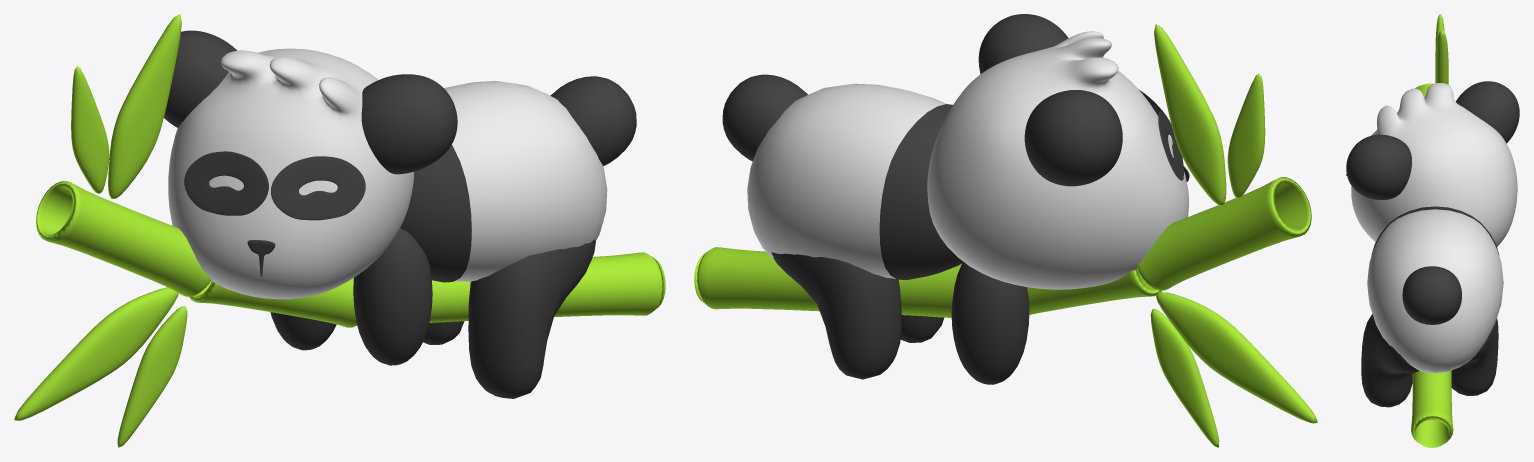
Rendered from panda.glb.
3 views of the same model, side by side, from view 1: azimuth 30°, elevation 25°; view 2: azimuth 150°, elevation 25°; view 3: azimuth 270°, elevation 25° (orthographic). The views are drawn at different scales.
Visible parts, largest first — view 1: Cube_2, Cubo.010_3, Cubo.003_19, Plano.002_16, Cilindro_12, Plano.001_15, Cubo.001_17, Cubo.004_9, Cilindro.002_14, Cubo.008_4, Cubo.007_21, Plano.004_0 (+5 smaller); view 2: Cube_2, Cubo.010_3, Plano.002_16, Cilindro_12, Cubo.006_20, Plano.001_15, Cubo.008_4, Cilindro.002_14, Cubo.005_10, Cubo.002_18, Cubo.007_21, Cubo.004_9 (+3 smaller); view 3: Cubo.010_3, Cube_2, Cubo.004_9, Cubo.003_19, Cilindro.002_14, Cubo.007_21, Cubo.005_10, Cubo.006_20, Plano.001_15, Cubo.008_4.
Part boxes in pixels (<box>): Cube_2: <box>168,48,414,299</box>; Cubo.010_3: <box>444,81,607,281</box>; Cubo.003_19: <box>468,239,595,398</box>; Plano.002_16: <box>14,287,187,447</box>; Cilindro_12: <box>36,181,211,296</box>; Plano.001_15: <box>71,14,181,198</box>; Cubo.001_17: <box>353,228,432,365</box>; Cubo.004_9: <box>361,74,457,174</box>; Cilindro.002_14: <box>357,252,665,326</box>; Cubo.008_4: <box>400,145,471,282</box>; Cubo.007_21: <box>550,76,636,166</box>; Plano.004_0: <box>271,156,365,220</box>; Cube_2: <box>927,31,1189,289</box>; Cubo.010_3: <box>747,83,946,278</box>; Plano.002_16: <box>1150,292,1317,447</box>; Cilindro_12: <box>1136,177,1311,290</box>; Cubo.006_20: <box>771,252,901,379</box>; Plano.001_15: <box>1154,24,1265,205</box>; Cubo.008_4: <box>879,104,962,279</box>; Cilindro.002_14: <box>694,247,961,317</box>; Cubo.005_10: <box>1024,90,1122,186</box>; Cubo.002_18: <box>951,261,1029,384</box>; Cubo.007_21: <box>722,74,807,161</box>; Cubo.004_9: <box>978,14,1068,73</box>; Cubo.010_3: <box>1367,209,1503,373</box>; Cube_2: <box>1351,83,1517,246</box>; Cubo.004_9: <box>1346,134,1411,199</box>; Cubo.003_19: <box>1361,314,1419,407</box>; Cilindro.002_14: <box>1411,370,1453,447</box>; Cubo.007_21: <box>1402,266,1461,324</box>; Cubo.005_10: <box>1456,81,1519,143</box>; Cubo.006_20: <box>1451,318,1498,395</box>; Plano.001_15: <box>1435,14,1448,84</box>; Cubo.008_4: <box>1371,206,1499,255</box>.
Size of the model in its own units: 5.74 by 3.64 by 2.04.
